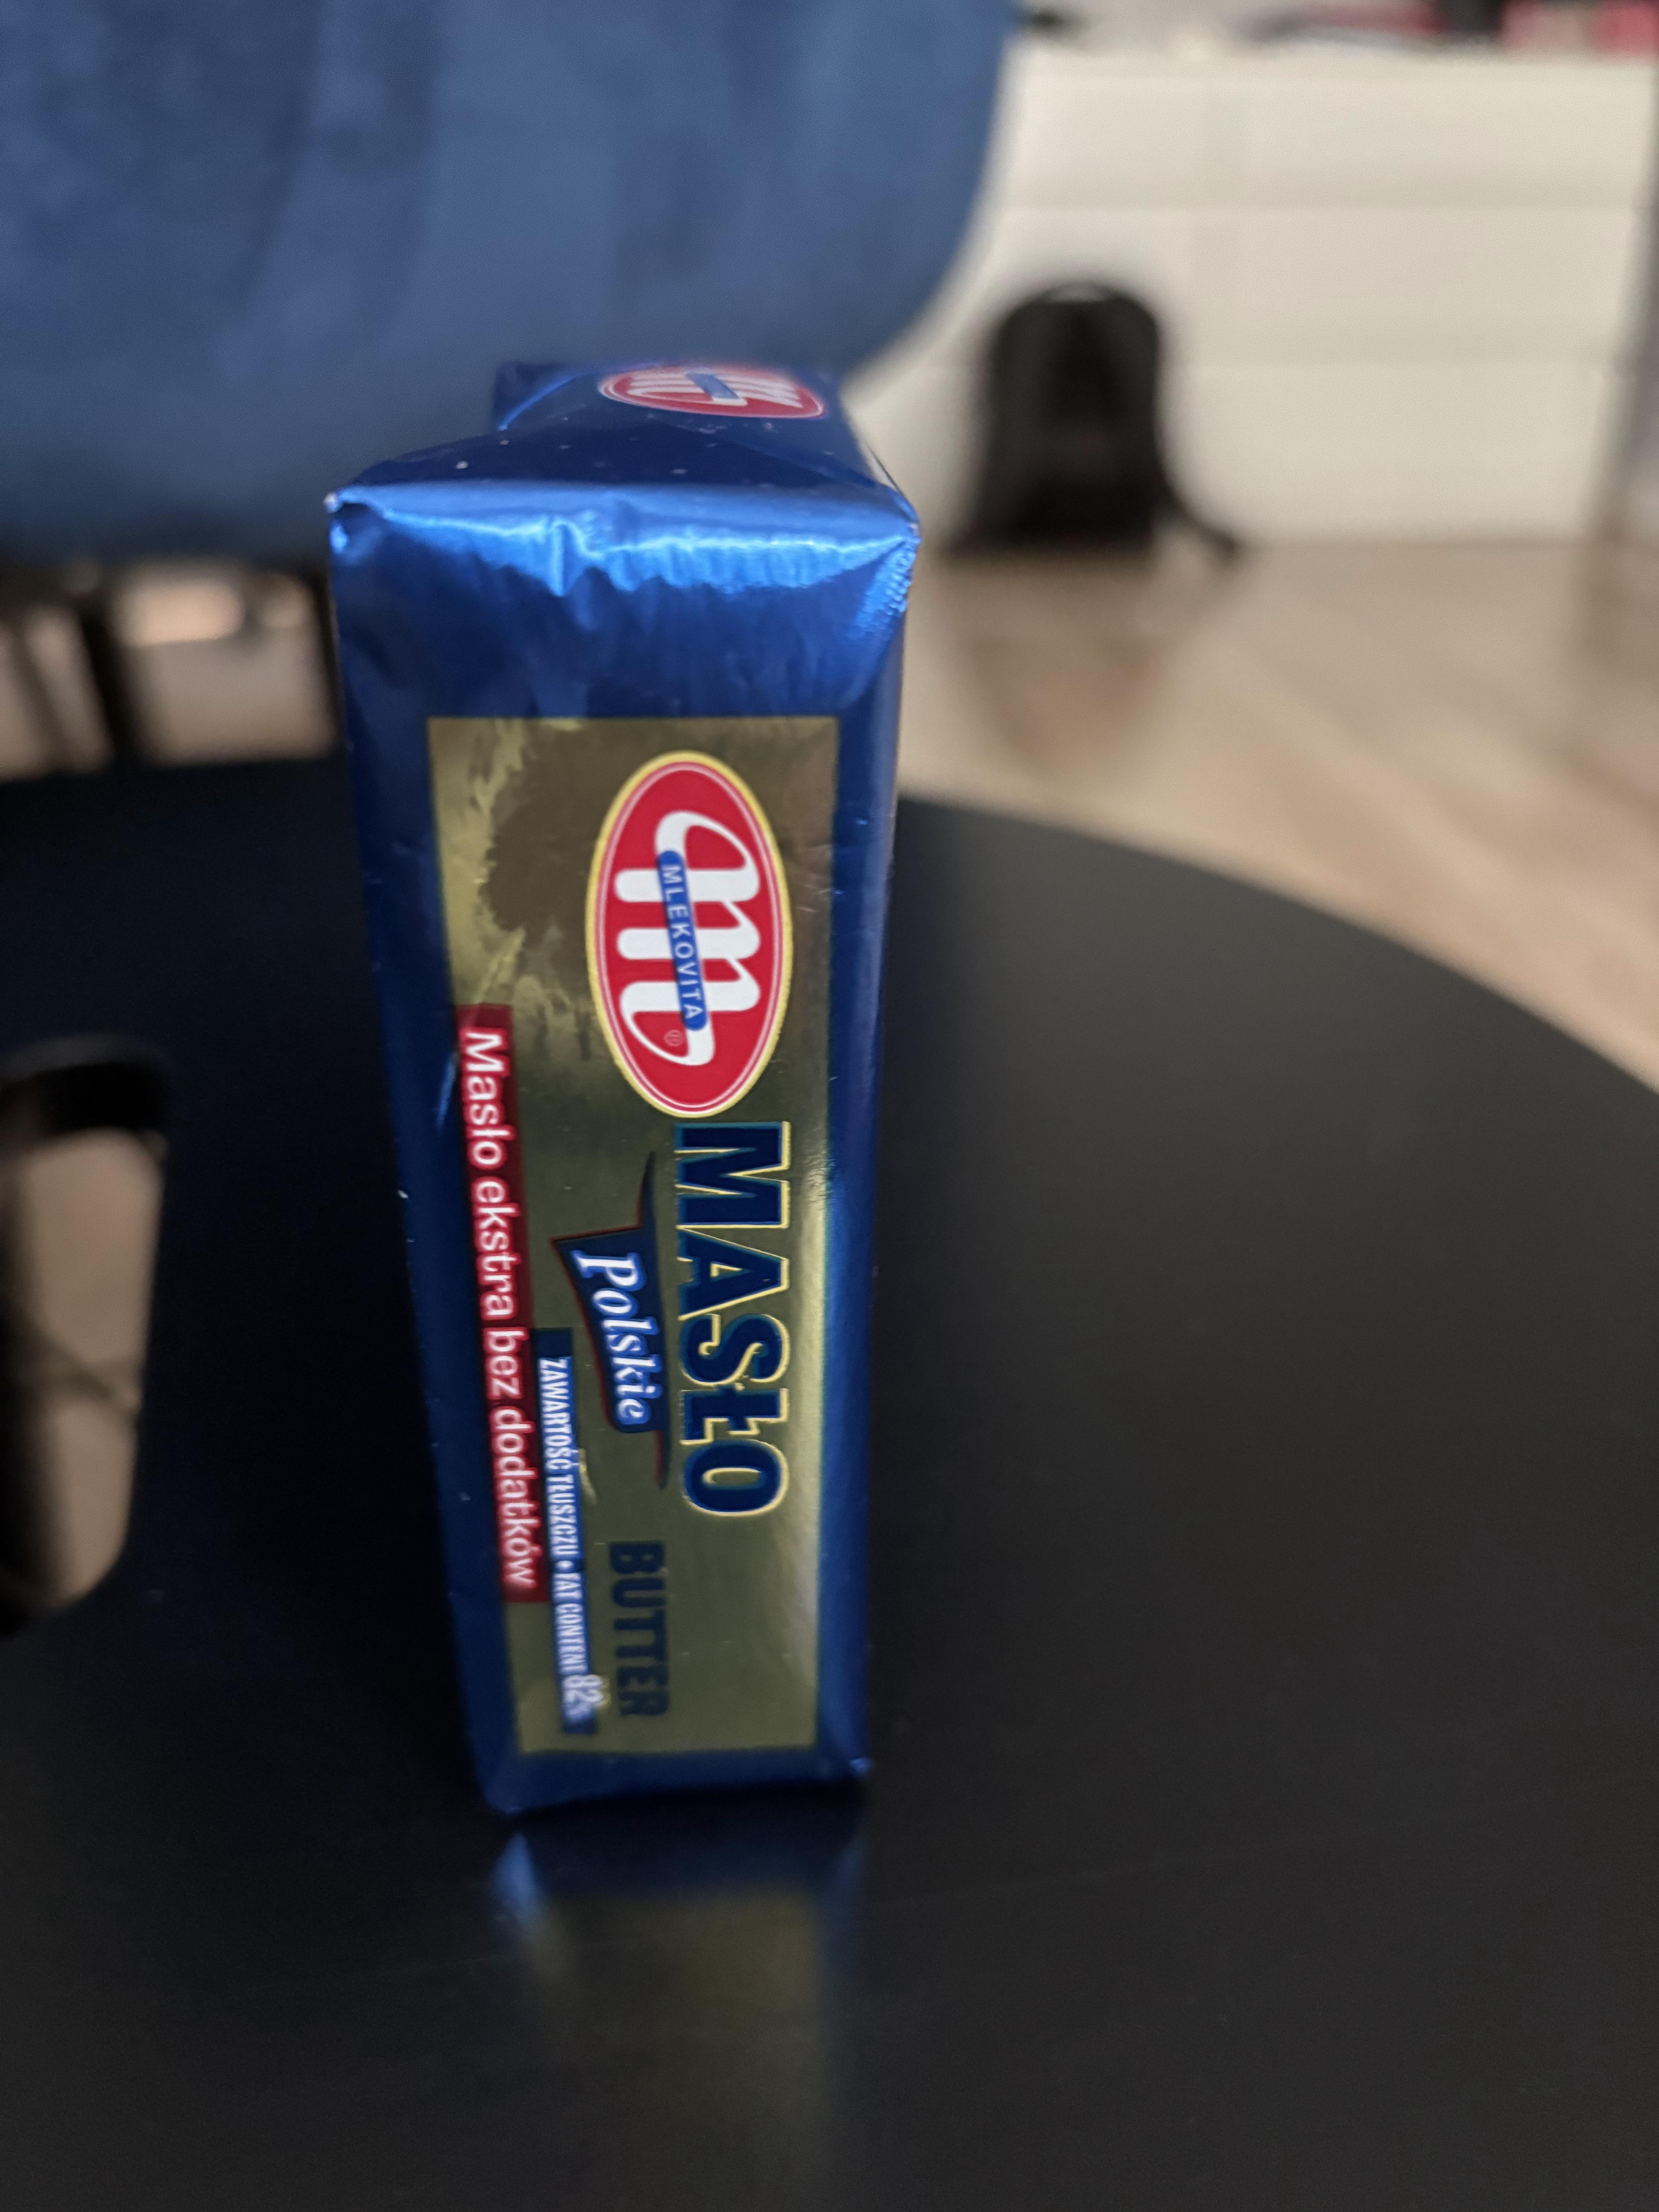Butter: (331, 465, 929, 1858)
